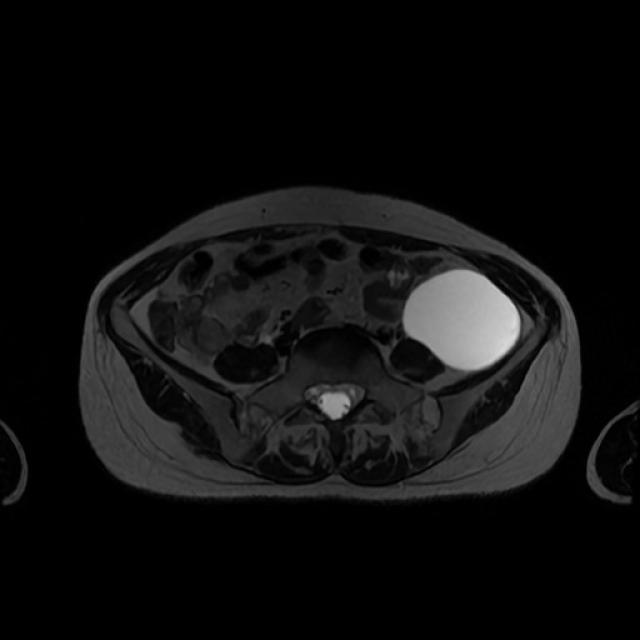sol: (404, 267, 522, 369)
